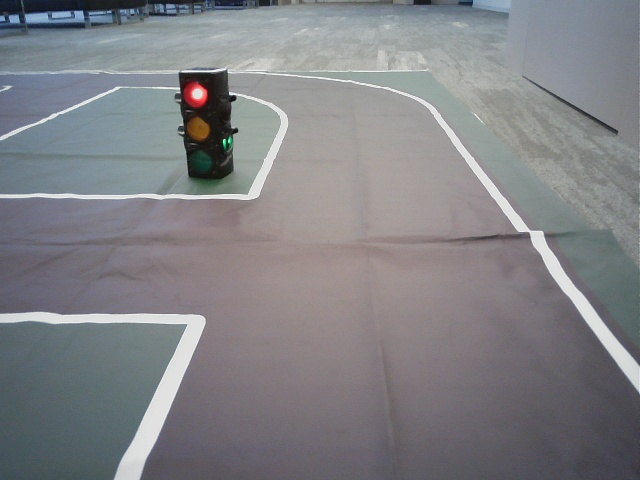red: (180, 75, 216, 173)
